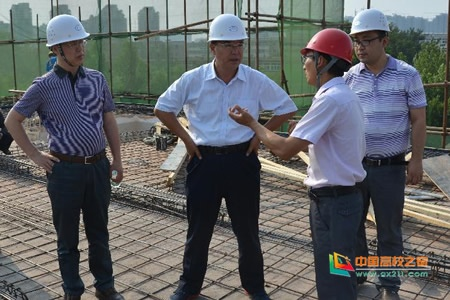red: (301, 26, 356, 85)
white: (206, 12, 250, 69), (44, 13, 87, 67), (350, 6, 390, 64)
